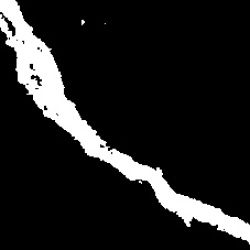crack: (2, 1, 249, 243), (80, 19, 90, 24)
